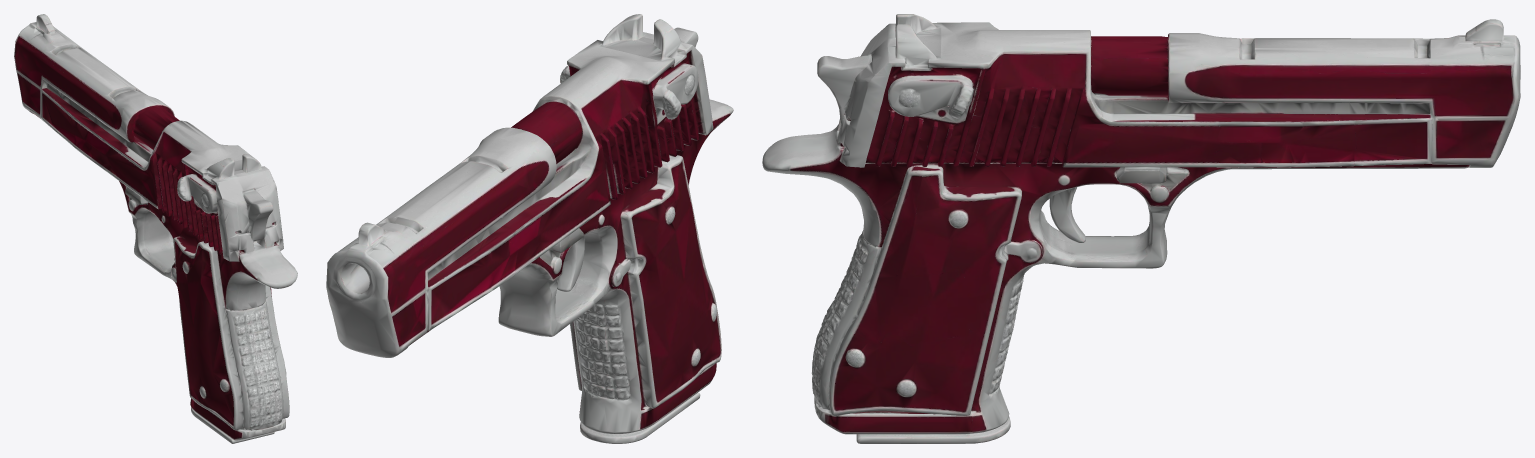
The model's file is kartal_yakut.glb.
3 views of the same model, side by side, from view 1: azimuth 30°, elevation 25°; view 2: azimuth 150°, elevation 25°; view 3: azimuth 270°, elevation 25° (orthographic). The views are drawn at different scales.
Parts seen in each view (by area): view 1: govde; view 2: govde; view 3: govde.
Boxes of the visible parts, <box> form: govde: <box>14,14,297,443</box>; govde: <box>326,14,733,443</box>; govde: <box>762,14,1520,443</box>.
Size of the model in its own units: 0.0511 by 0.1609 by 0.27.
Materials: 1 (1 with a texture image).
